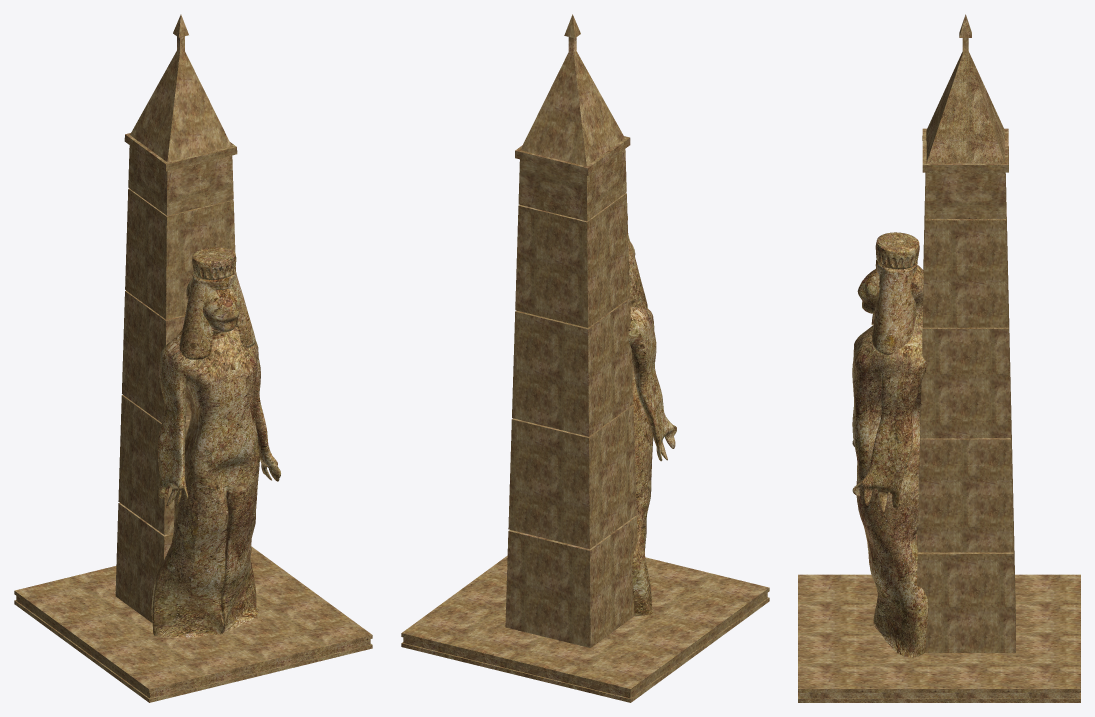
Rendered from fbxColumn.fbx.
The picture shows the model from 3 angles, left to right: view 1: azimuth 30°, elevation 25°; view 2: azimuth 150°, elevation 25°; view 3: azimuth 270°, elevation 25°; orthographic projection. The views are drawn at different scales.
Parts seen in each view (by area): view 1: obelisk, statue, floor; view 2: obelisk, floor, statue; view 3: obelisk, floor, statue.
Boxes of the visible parts, <box> form: obelisk: <box>115,14,237,622</box>; statue: <box>151,247,280,637</box>; floor: <box>14,546,372,702</box>; obelisk: <box>505,14,637,647</box>; floor: <box>401,555,769,702</box>; statue: <box>627,216,676,615</box>; obelisk: <box>917,14,1015,652</box>; floor: <box>798,574,1080,702</box>; statue: <box>852,232,928,657</box>.
Bounding box in the file's own units: 2.38 × 6.16 × 2.49.
Materials: 1 (1 with a texture image).
